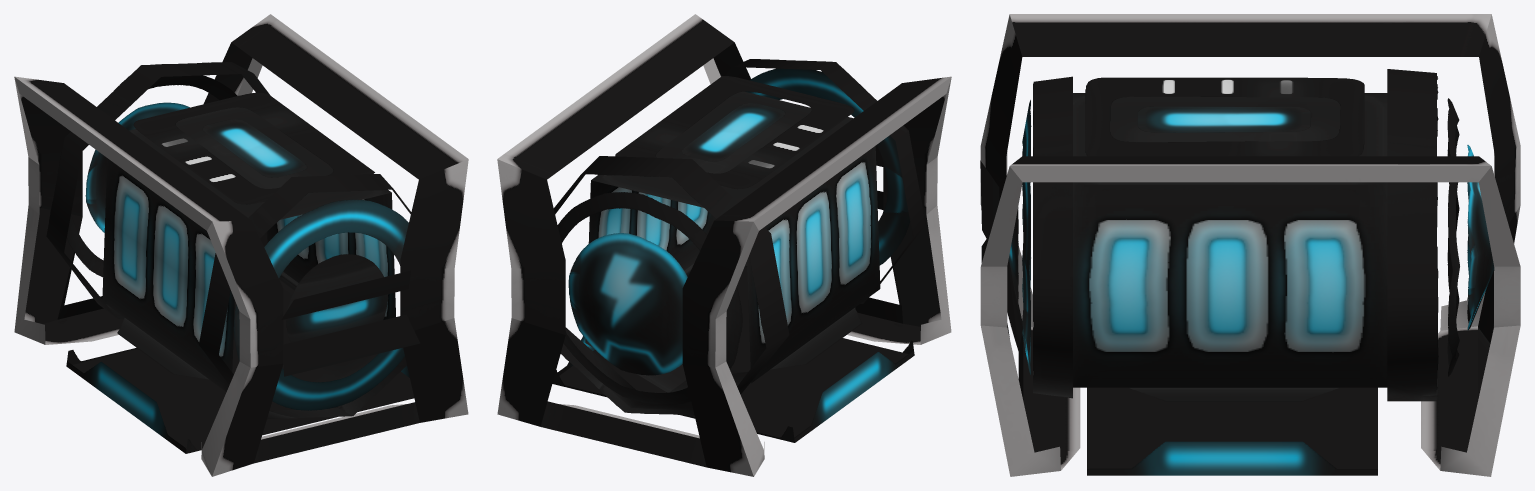
The model's file is obj_interactive_electricengine_05_lod2.fbx.
The picture shows the model from 3 angles, left to right: view 1: azimuth 30°, elevation 25°; view 2: azimuth 150°, elevation 25°; view 3: azimuth 270°, elevation 25°; orthographic projection. The views are drawn at different scales.
Visible parts, largest first — view 1: obj_interactive_electricengine_05_off5; view 2: obj_interactive_electricengine_05_off5; view 3: obj_interactive_electricengine_05_off5.
Part boxes in pixels (left/top/right/bottom): obj_interactive_electricengine_05_off5: left=14, top=14, right=468, bottom=476; obj_interactive_electricengine_05_off5: left=497, top=14, right=951, bottom=476; obj_interactive_electricengine_05_off5: left=980, top=14, right=1520, bottom=476.
Size of the model in its own units: 2 by 1.96 by 3.
Materials: 1 (1 with a texture image).
